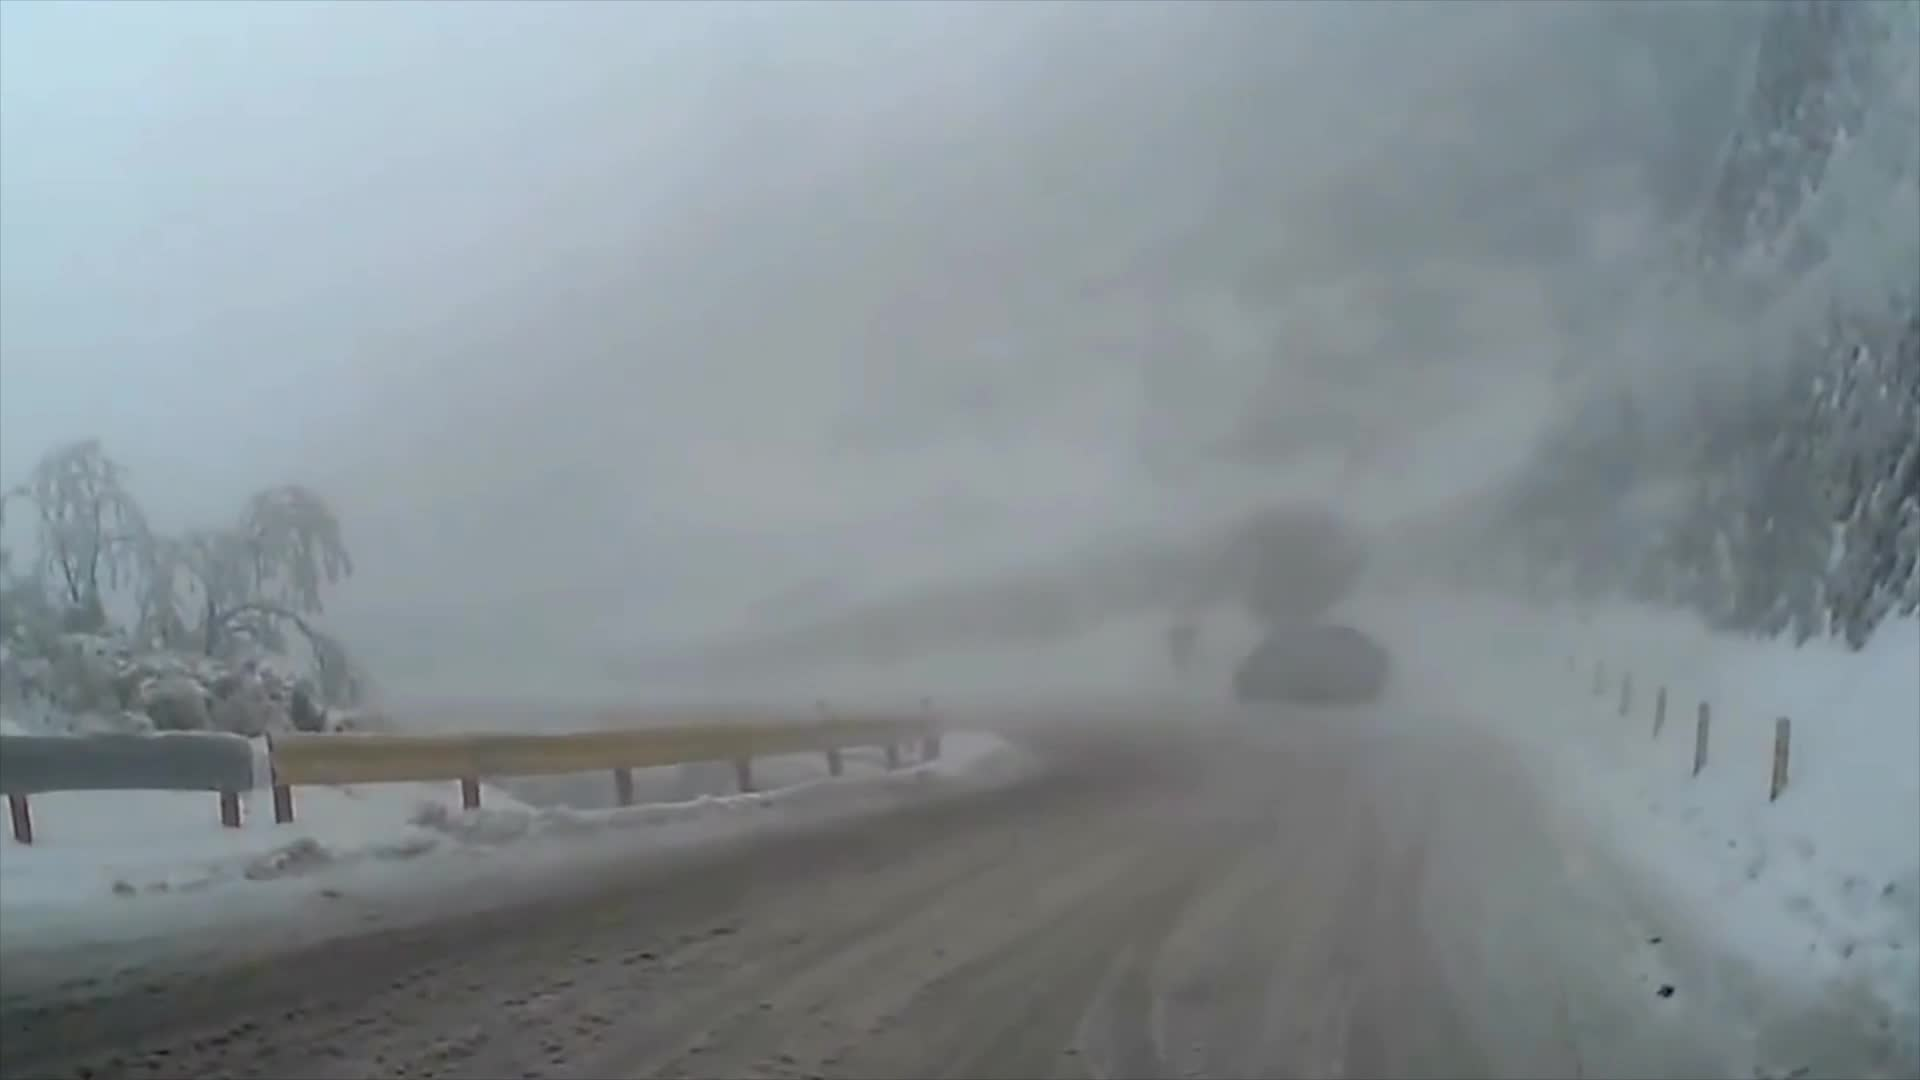vehicle: (1232, 622, 1390, 705)
